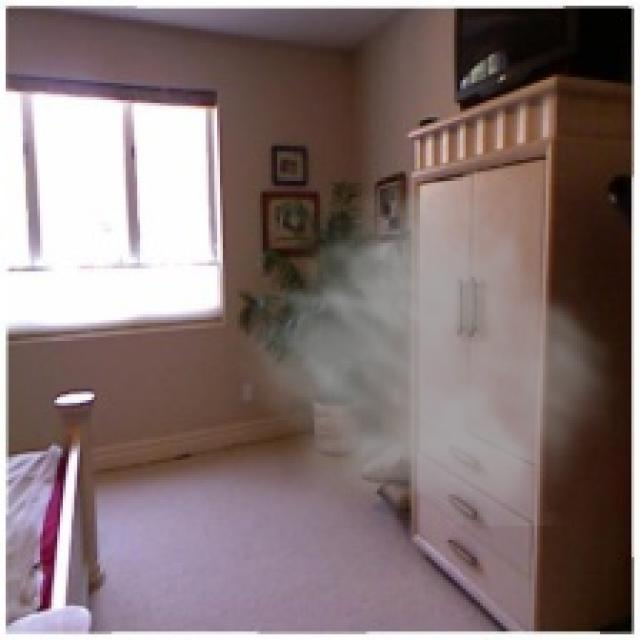smoke: (226, 151, 628, 526)
